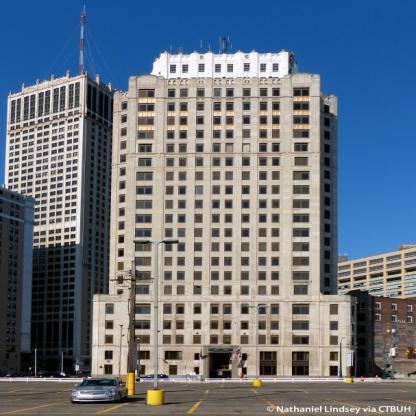Building Outline: (92, 49, 356, 380)
Dont: (132, 239, 179, 405), (109, 261, 154, 395), (139, 373, 381, 386), (70, 378, 128, 404), (136, 374, 169, 382), (339, 337, 345, 378), (230, 347, 241, 360), (199, 347, 202, 358)
Door: (208, 371, 231, 380)
Door Hole: (208, 353, 231, 380)
Facade: (133, 79, 320, 380)
Floor: (98, 298, 350, 316), (133, 81, 320, 99), (98, 318, 350, 331), (98, 334, 350, 347), (133, 155, 320, 168), (133, 240, 320, 253), (133, 269, 320, 282), (133, 284, 320, 296), (133, 115, 320, 127), (133, 129, 320, 141), (133, 170, 320, 182), (133, 184, 320, 196), (133, 198, 320, 210), (133, 212, 320, 224), (133, 226, 320, 238), (133, 255, 320, 267), (133, 101, 320, 112), (133, 143, 320, 154)
Floor Slab: (98, 347, 350, 349), (98, 316, 350, 318), (98, 296, 350, 298), (98, 332, 350, 334), (133, 282, 320, 284), (133, 268, 320, 270), (133, 253, 320, 255), (133, 238, 320, 240), (133, 224, 320, 226), (133, 210, 320, 212), (133, 196, 320, 198), (133, 182, 320, 184), (133, 168, 320, 170), (133, 154, 320, 156), (133, 141, 320, 143), (133, 127, 320, 129), (133, 113, 320, 115), (133, 99, 320, 101), (133, 79, 320, 81)
Ground Floor: (98, 349, 350, 380)
Top Floor: (168, 55, 288, 79)
Window: (259, 352, 278, 376), (292, 352, 309, 376), (292, 320, 309, 330), (165, 351, 183, 360), (293, 304, 309, 314), (134, 335, 151, 344), (138, 89, 155, 98), (138, 103, 155, 112), (138, 117, 155, 126), (138, 131, 155, 140), (136, 172, 153, 181), (136, 186, 153, 195), (136, 200, 153, 209), (136, 214, 153, 223), (134, 257, 151, 266), (134, 271, 151, 280), (134, 286, 151, 295), (134, 304, 151, 313), (134, 320, 151, 329), (293, 87, 310, 96), (293, 102, 310, 111), (293, 116, 310, 125), (293, 129, 310, 138), (293, 171, 310, 180), (293, 185, 310, 194), (293, 199, 310, 208), (293, 214, 310, 223), (293, 228, 310, 237), (293, 242, 310, 251), (293, 257, 310, 266), (293, 272, 310, 281), (292, 336, 309, 345), (136, 228, 152, 237), (135, 242, 151, 251), (134, 351, 150, 360), (294, 143, 308, 152), (294, 286, 308, 295), (139, 157, 152, 166), (139, 143, 152, 152), (295, 157, 308, 166), (330, 304, 338, 315), (164, 304, 172, 314), (176, 304, 184, 314), (163, 320, 171, 330), (176, 320, 184, 330), (194, 320, 202, 330), (194, 304, 202, 314), (271, 304, 279, 314), (211, 304, 219, 314), (224, 304, 232, 314), (211, 320, 219, 330), (224, 320, 232, 330), (241, 304, 249, 314), (259, 304, 267, 314), (241, 320, 249, 330), (271, 320, 279, 330), (258, 320, 266, 330), (330, 351, 338, 361), (330, 366, 338, 376), (169, 365, 177, 375), (105, 364, 113, 374), (226, 88, 234, 97), (180, 102, 188, 111), (180, 116, 188, 125), (226, 129, 234, 138), (196, 143, 204, 152), (213, 143, 221, 152), (225, 143, 233, 152), (196, 157, 204, 166), (213, 157, 221, 166), (225, 157, 233, 166), (271, 185, 279, 194), (259, 185, 267, 194), (178, 200, 186, 209), (178, 214, 186, 223), (271, 228, 279, 237), (211, 228, 219, 237), (223, 228, 231, 237), (241, 228, 249, 237), (272, 242, 280, 251), (211, 242, 219, 251), (223, 242, 231, 251), (258, 242, 266, 251), (165, 257, 173, 266), (271, 271, 279, 280), (211, 271, 219, 280), (224, 271, 232, 280), (241, 271, 249, 280), (259, 271, 267, 280), (271, 285, 279, 294), (193, 285, 201, 294), (211, 285, 219, 294), (223, 285, 231, 294), (258, 285, 266, 294), (259, 228, 267, 237), (241, 335, 249, 344), (163, 335, 171, 344), (194, 335, 202, 344), (176, 335, 184, 344), (211, 335, 219, 344), (224, 335, 232, 344), (271, 335, 279, 344), (258, 335, 266, 344), (330, 321, 338, 330), (330, 336, 338, 345), (137, 365, 145, 374), (106, 304, 113, 314), (180, 89, 188, 97), (226, 102, 234, 110), (226, 116, 234, 124), (180, 130, 188, 138), (272, 143, 280, 151), (167, 144, 175, 152), (259, 143, 267, 151), (272, 157, 280, 165), (167, 158, 175, 166), (259, 157, 267, 165), (271, 171, 279, 179), (195, 172, 203, 180), (212, 172, 220, 180), (195, 186, 203, 194), (212, 186, 220, 194), (272, 200, 280, 208), (224, 200, 232, 208), (259, 200, 267, 208), (272, 214, 280, 222), (224, 214, 232, 222), (259, 214, 267, 222), (165, 229, 173, 237), (165, 243, 173, 251), (241, 243, 249, 251), (271, 257, 279, 265), (211, 257, 219, 265), (223, 257, 231, 265), (241, 257, 249, 265), (259, 257, 267, 265), (193, 271, 201, 279), (197, 88, 204, 97), (214, 88, 221, 97), (273, 101, 280, 110), (168, 102, 175, 111), (243, 101, 250, 110), (260, 101, 267, 110), (273, 115, 280, 124), (168, 116, 175, 125), (243, 115, 250, 124), (260, 115, 267, 124), (197, 129, 204, 138), (214, 129, 221, 138), (167, 172, 174, 181), (179, 172, 186, 181), (167, 186, 174, 195), (179, 186, 186, 195), (166, 200, 173, 209), (166, 214, 173, 223), (194, 228, 201, 237), (194, 242, 201, 251), (178, 257, 185, 266), (165, 271, 172, 280), (177, 271, 184, 280), (241, 285, 248, 294), (105, 351, 112, 360), (106, 335, 113, 344), (106, 320, 113, 329), (273, 88, 280, 96), (168, 89, 175, 97), (243, 88, 250, 96), (260, 88, 267, 96), (197, 102, 204, 110), (214, 102, 221, 110), (197, 116, 204, 124), (214, 116, 221, 124), (273, 129, 280, 137), (168, 130, 175, 138), (243, 129, 250, 137), (260, 129, 267, 137), (180, 144, 187, 152), (242, 143, 249, 151), (180, 158, 187, 166), (242, 157, 249, 165), (225, 172, 232, 180), (242, 172, 249, 180), (260, 171, 267, 179), (225, 186, 232, 194), (242, 186, 249, 194), (195, 200, 202, 208), (212, 200, 219, 208), (242, 200, 249, 208), (195, 214, 202, 222), (212, 214, 219, 222), (242, 214, 249, 222), (178, 229, 185, 237), (178, 243, 185, 251), (194, 257, 201, 265), (165, 286, 172, 294), (177, 286, 184, 294), (273, 63, 279, 72), (183, 64, 189, 73), (199, 63, 205, 72), (261, 63, 267, 72), (170, 65, 176, 73), (216, 64, 222, 72), (227, 64, 233, 72), (244, 63, 250, 71), (195, 367, 200, 375), (242, 368, 247, 375), (242, 353, 247, 360), (195, 353, 200, 360)
